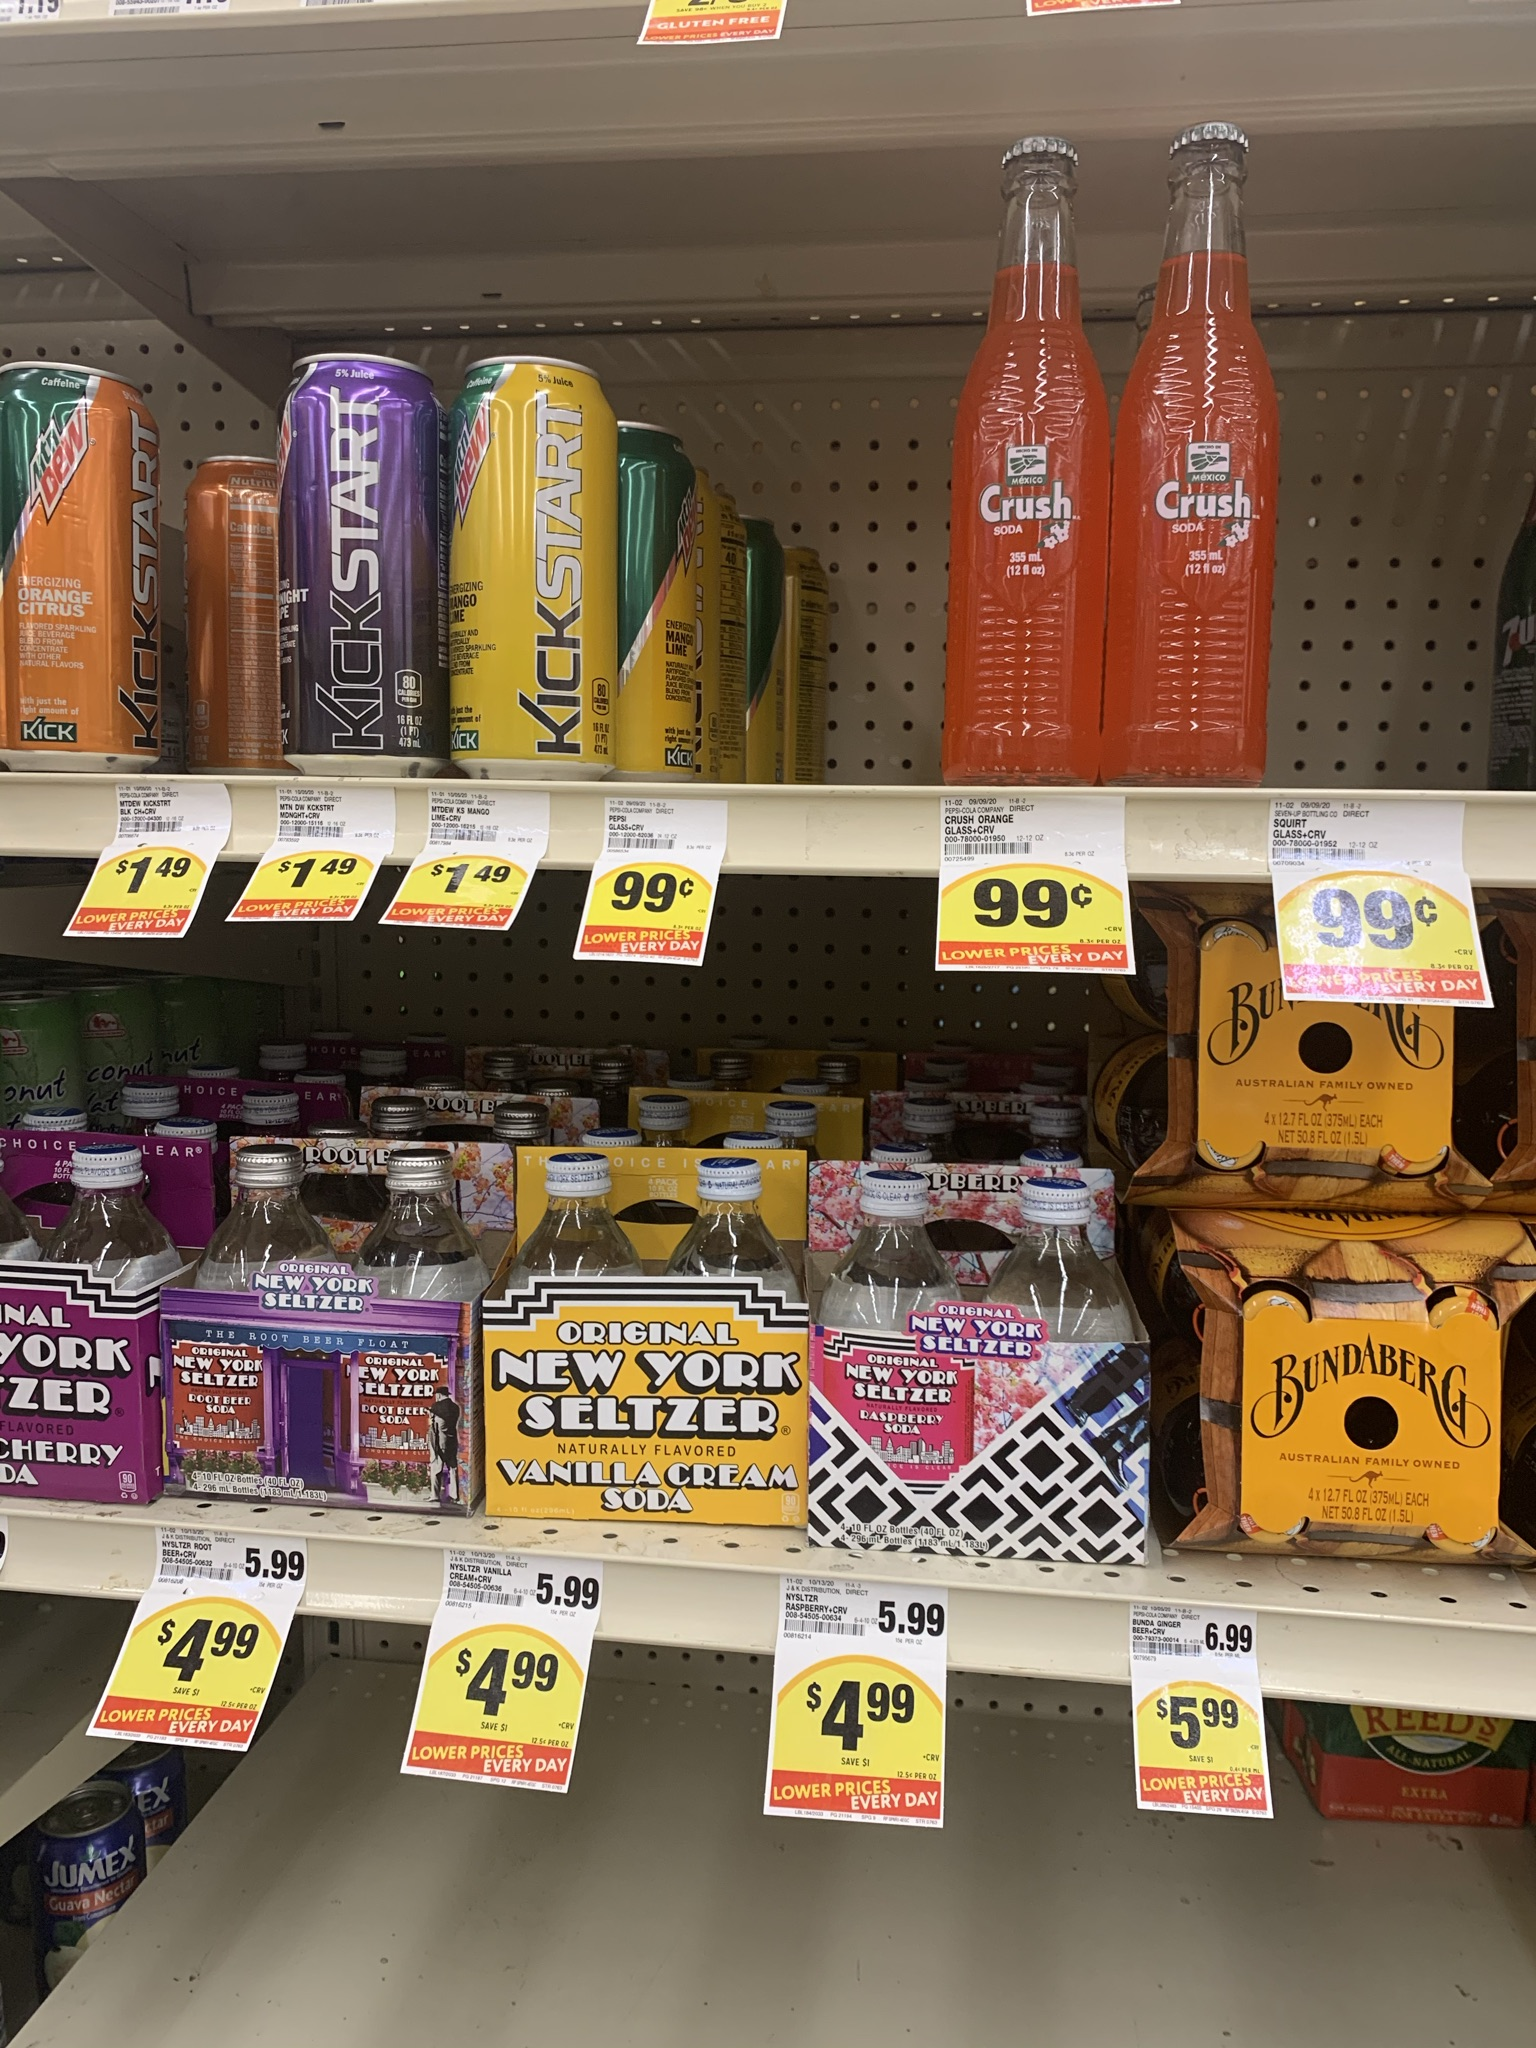Soda: (803, 1158, 1146, 1556), (482, 1147, 808, 1526), (163, 1155, 474, 1516), (949, 134, 1112, 792), (1117, 123, 1276, 785), (1199, 1255, 1525, 1556), (452, 352, 616, 784), (2, 358, 168, 771), (279, 348, 434, 777)
